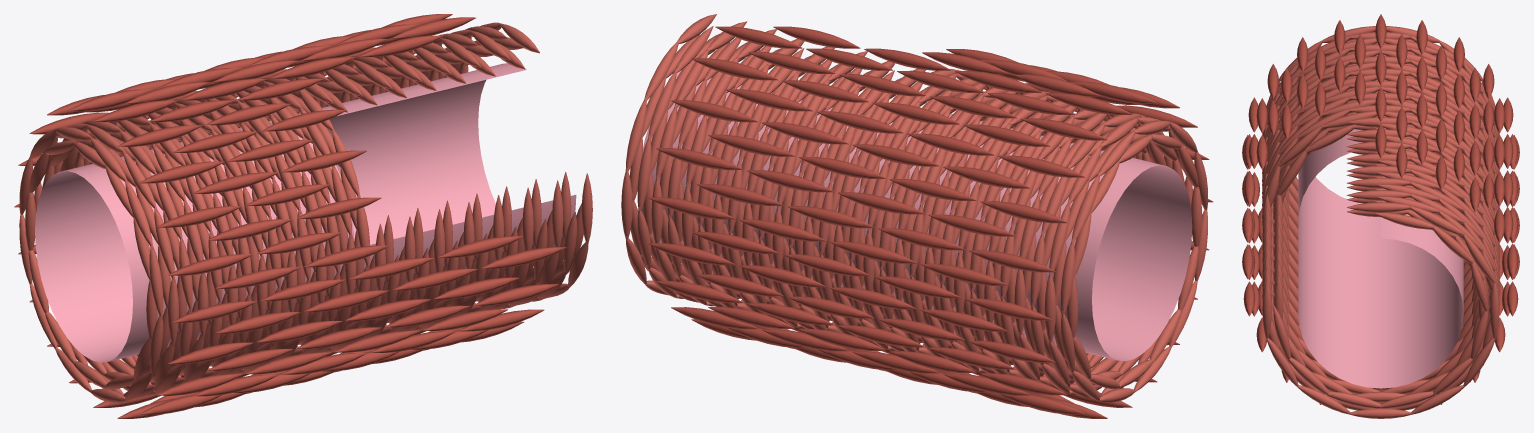
Rendered from gutwall.glb.
3 views of the same model, side by side, from view 1: azimuth 30°, elevation 25°; view 2: azimuth 150°, elevation 25°; view 3: azimuth 270°, elevation 25° (orthographic). The views are drawn at different scales.
Visible parts, largest first — view 1: Longitudinal muscle layer, Mucosa, Circular muscle layer.001, Circular muscle layer.002, Circular muscle layer.003, Circular muscle layer.004, Circular muscle layer.005, Circular muscle layer.015, Circular muscle layer.014, Circular muscle layer.008, Circular muscle layer.011, Circular muscle layer.010 (+20 smaller); view 2: Longitudinal muscle layer, Mucosa, Circular muscle layer.001, Circular muscle layer.002, Circular muscle layer.003, Circular muscle layer.030, Circular muscle layer.029, Circular muscle layer.028, Circular muscle layer.004, Circular muscle layer.005, Circular muscle layer.027, Circular muscle layer.008 (+20 smaller); view 3: Mucosa, Longitudinal muscle layer, Circular muscle layer.030, Circular muscle layer.029, Circular muscle layer.015, Circular muscle layer.028, Circular muscle layer.027, Circular muscle layer.014, Circular muscle layer.026, Circular muscle layer.013, Circular muscle layer.025, Circular muscle layer.024 (+20 smaller).
Boxes of the visible parts, left/top/right/bottom form: Longitudinal muscle layer: left=14, top=14, right=566, bottom=418; Mucosa: left=35, top=63, right=576, bottom=362; Circular muscle layer.001: left=19, top=127, right=163, bottom=402; Circular muscle layer.002: left=34, top=123, right=178, bottom=399; Circular muscle layer.003: left=54, top=120, right=192, bottom=395; Circular muscle layer.004: left=74, top=120, right=208, bottom=391; Circular muscle layer.005: left=83, top=116, right=222, bottom=381; Circular muscle layer.015: left=235, top=77, right=369, bottom=352; Circular muscle layer.014: left=232, top=81, right=356, bottom=352; Circular muscle layer.008: left=144, top=102, right=267, bottom=374; Circular muscle layer.011: left=176, top=95, right=310, bottom=360; Circular muscle layer.010: left=173, top=98, right=297, bottom=370; Longitudinal muscle layer: left=648, top=26, right=1213, bottom=418; Mucosa: left=641, top=70, right=1192, bottom=361; Circular muscle layer.001: left=1061, top=120, right=1207, bottom=402; Circular muscle layer.002: left=1044, top=117, right=1192, bottom=398; Circular muscle layer.003: left=1030, top=113, right=1172, bottom=394; Circular muscle layer.030: left=621, top=14, right=716, bottom=295; Circular muscle layer.029: left=637, top=26, right=720, bottom=298; Circular muscle layer.028: left=651, top=21, right=747, bottom=302; Circular muscle layer.004: left=1014, top=113, right=1152, bottom=391; Circular muscle layer.005: left=1000, top=109, right=1142, bottom=381; Circular muscle layer.027: left=668, top=37, right=748, bottom=306; Circular muscle layer.008: left=954, top=95, right=1080, bottom=373; Mucosa: left=1298, top=129, right=1463, bottom=388; Longitudinal muscle layer: left=1242, top=14, right=1519, bottom=404; Circular muscle layer.030: left=1262, top=202, right=1499, bottom=418; Circular muscle layer.029: left=1262, top=196, right=1499, bottom=410; Circular muscle layer.015: left=1262, top=111, right=1498, bottom=275; Circular muscle layer.028: left=1262, top=190, right=1499, bottom=403; Circular muscle layer.027: left=1262, top=184, right=1499, bottom=394; Circular muscle layer.014: left=1262, top=105, right=1499, bottom=264; Circular muscle layer.026: left=1262, top=177, right=1499, bottom=391; Circular muscle layer.013: left=1262, top=99, right=1499, bottom=263; Circular muscle layer.025: left=1262, top=172, right=1499, bottom=340; Circular muscle layer.024: left=1262, top=165, right=1499, bottom=329.
Bounding box in the file's own units: 6 × 3.84 × 3.86.
